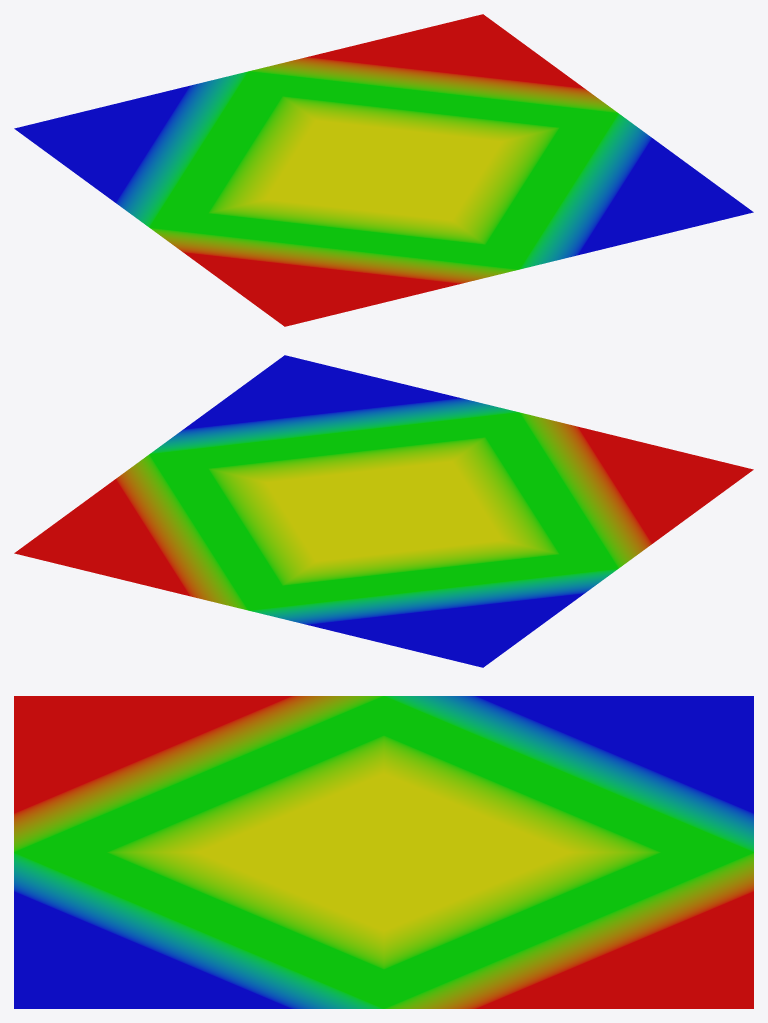
The model's file is vertex_colour.FBX.
3 renders of one model, top to bottom at view 1: azimuth 30°, elevation 25°; view 2: azimuth 150°, elevation 25°; view 3: azimuth 270°, elevation 25°, orthographic. The views are drawn at different scales.
Visible parts, largest first — view 1: vertex_colour; view 2: vertex_colour; view 3: vertex_colour.
Boxes of the visible parts, box(x1,y1,x2,y2) form: vertex_colour: box(14, 14, 753, 326); vertex_colour: box(14, 355, 753, 667); vertex_colour: box(14, 696, 753, 1008).
Size of the model in its own units: 100 by 6.12e-15 by 100.
